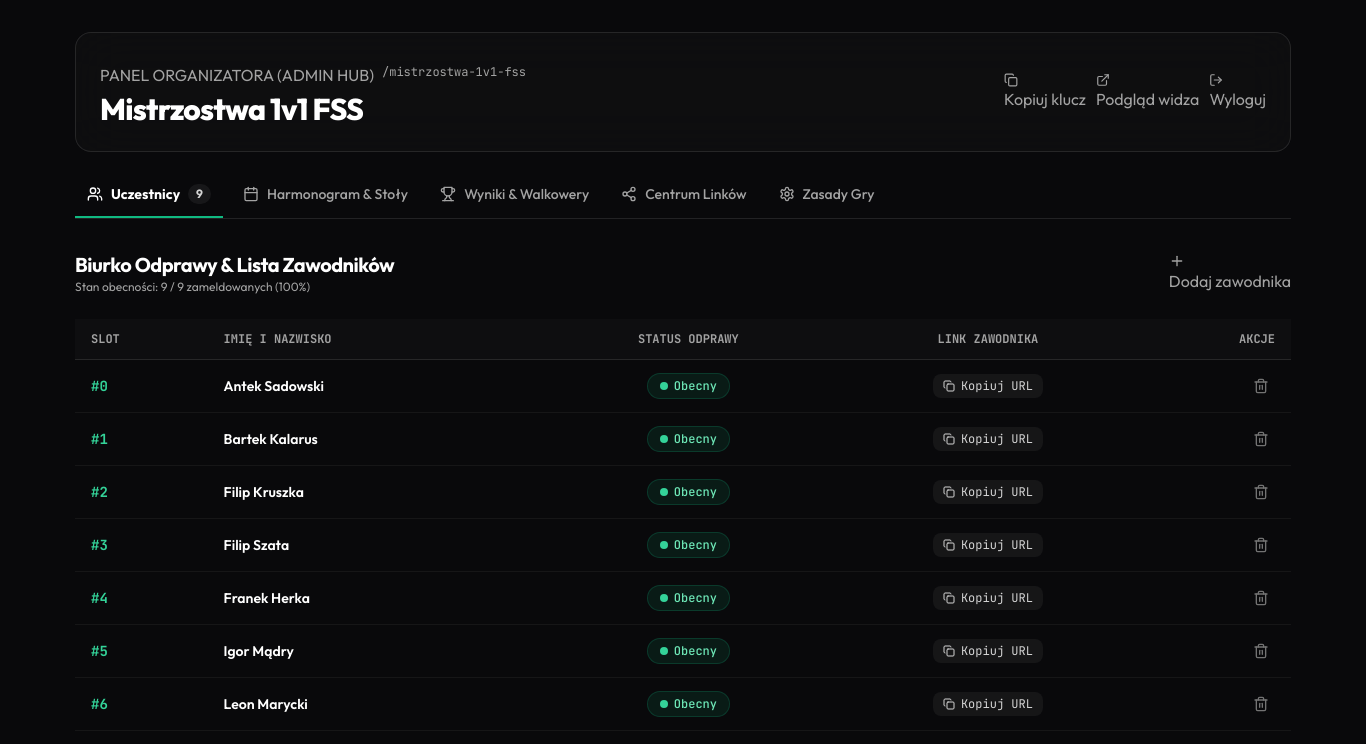
Test: Milestone 4: Organizer Admin Hub Suite › 7. Secret Sharing Center displays copyable links for all tournament roles
// Switch to sharing tab
Step 1. Click the button "Centrum Linków" → [684, 201], box [609,184,758,218]
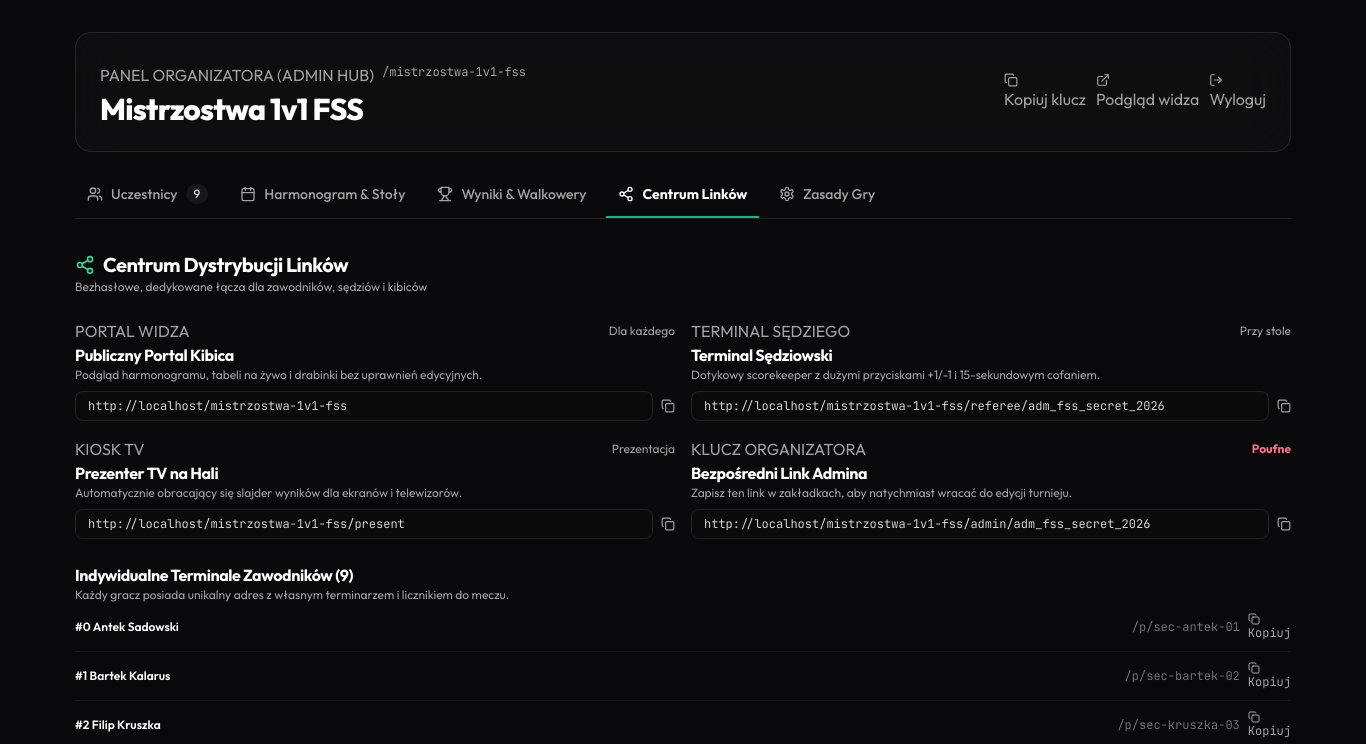
Check: the heading "Centrum Dystrybucji Linków" is shown, box [75,252,348,277]
Check: the heading "Publiczny Portal Kibica" is shown, box [75,345,234,365]
Check: the heading "Terminal Sędziowski" is shown, box [691,345,832,365]
